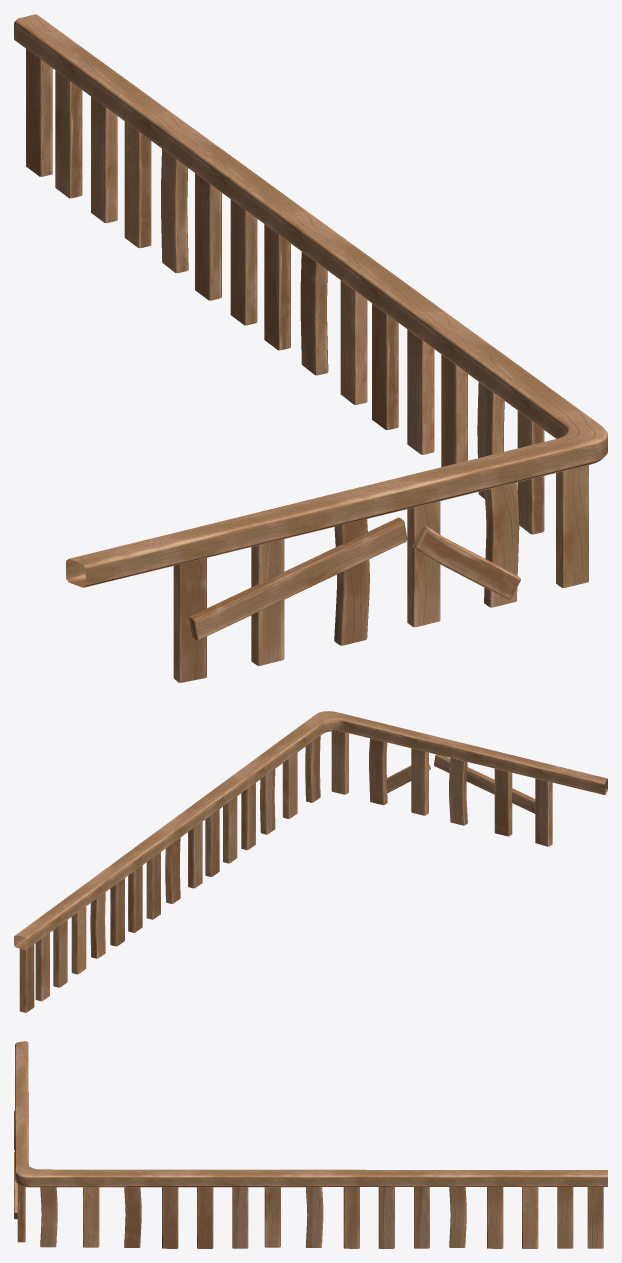
Rendered from SM_Balcony_02.fbx.
3 views of the same model, one above another, from view 1: azimuth 30°, elevation 25°; view 2: azimuth 150°, elevation 25°; view 3: azimuth 270°, elevation 25° (orthographic). The views are drawn at different scales.
Parts seen in each view (by area): view 1: SM_Balcony_02_LOD0; view 2: SM_Balcony_02_LOD0; view 3: SM_Balcony_02_LOD0.
Boxes of the visible parts, <box> form: SM_Balcony_02_LOD0: <box>14,14,607,682</box>; SM_Balcony_02_LOD0: <box>14,711,607,1012</box>; SM_Balcony_02_LOD0: <box>14,1041,607,1248</box>.
Bounding box in the file's own units: 334 × 621 × 86.22.
Materials: 1 (1 with a texture image).
